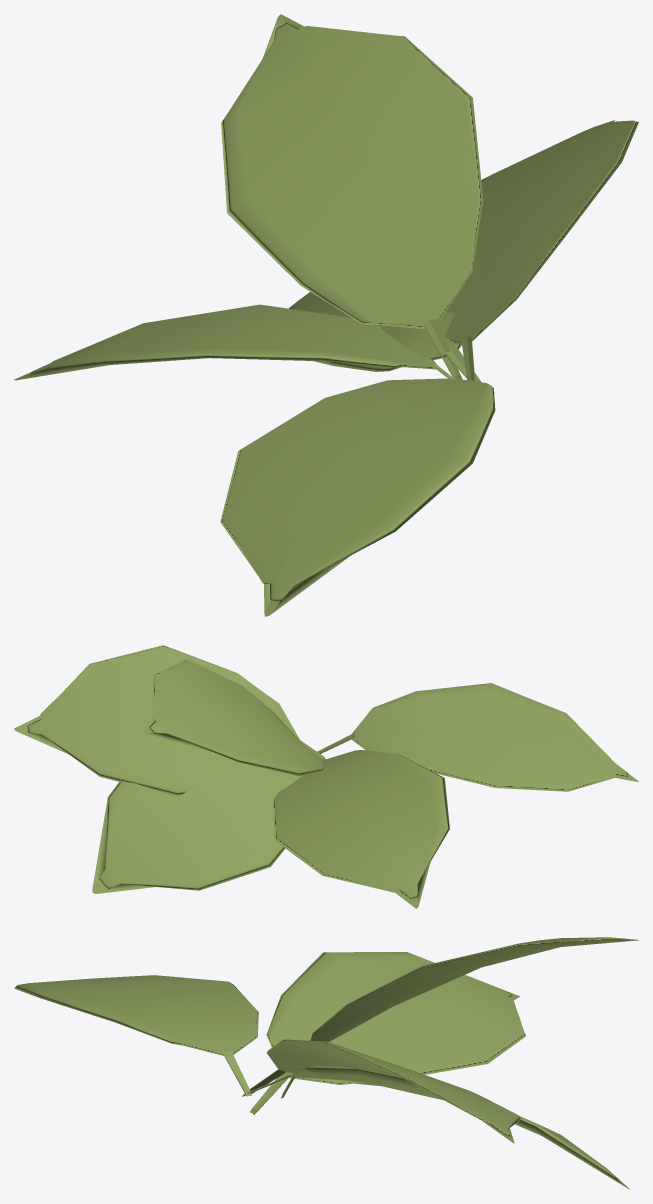
File: few leaves reduced.fbx
3 views of the same model, one above another, from view 1: azimuth 30°, elevation 25°; view 2: azimuth 150°, elevation 25°; view 3: azimuth 270°, elevation 25° (orthographic). The views are drawn at different scales.
Parts seen in each view (by area): view 1: polySurface24, polySurface28, polySurface25, polySurface27, polySurface26; view 2: polySurface28, polySurface27, polySurface26, polySurface25, polySurface24; view 3: polySurface27, polySurface28, polySurface24, polySurface25, polySurface26.
Part boxes in pixels (box(x1,y1,x2,y2)): polySurface24: box(221, 14, 483, 379); polySurface28: box(220, 378, 495, 616); polySurface25: box(444, 120, 638, 381); polySurface27: box(14, 304, 454, 380); polySurface26: box(289, 292, 481, 382); polySurface28: box(317, 683, 638, 791); polySurface27: box(273, 750, 449, 908); polySurface26: box(92, 765, 302, 893); polySurface25: box(14, 645, 325, 796); polySurface24: box(140, 659, 324, 775); polySurface27: box(250, 952, 525, 1114); polySurface28: box(14, 975, 258, 1096); polySurface24: box(281, 937, 638, 1098); polySurface25: box(243, 1039, 520, 1143); polySurface26: box(242, 1066, 629, 1189).
Size of the model in its own units: 7.6 by 3.2 by 7.68.
